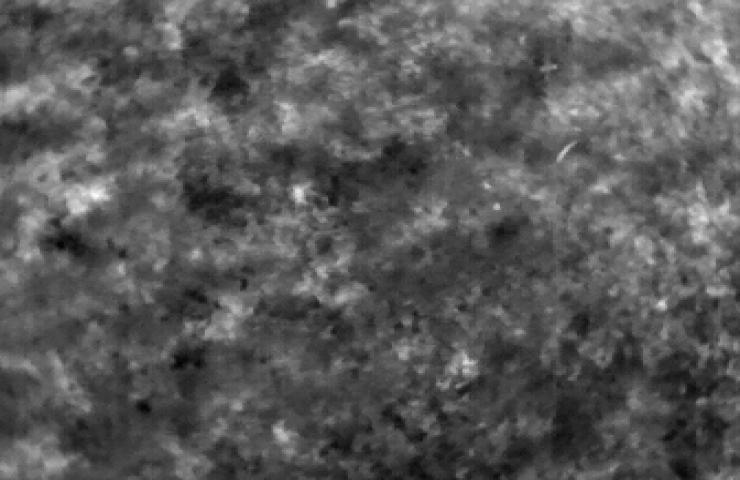landmines: (289, 182, 316, 208)
